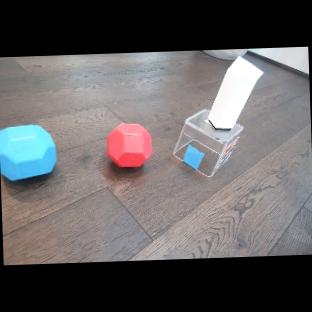V5_BLUE: (0, 125, 59, 184)
V5_RED: (107, 122, 152, 169)
